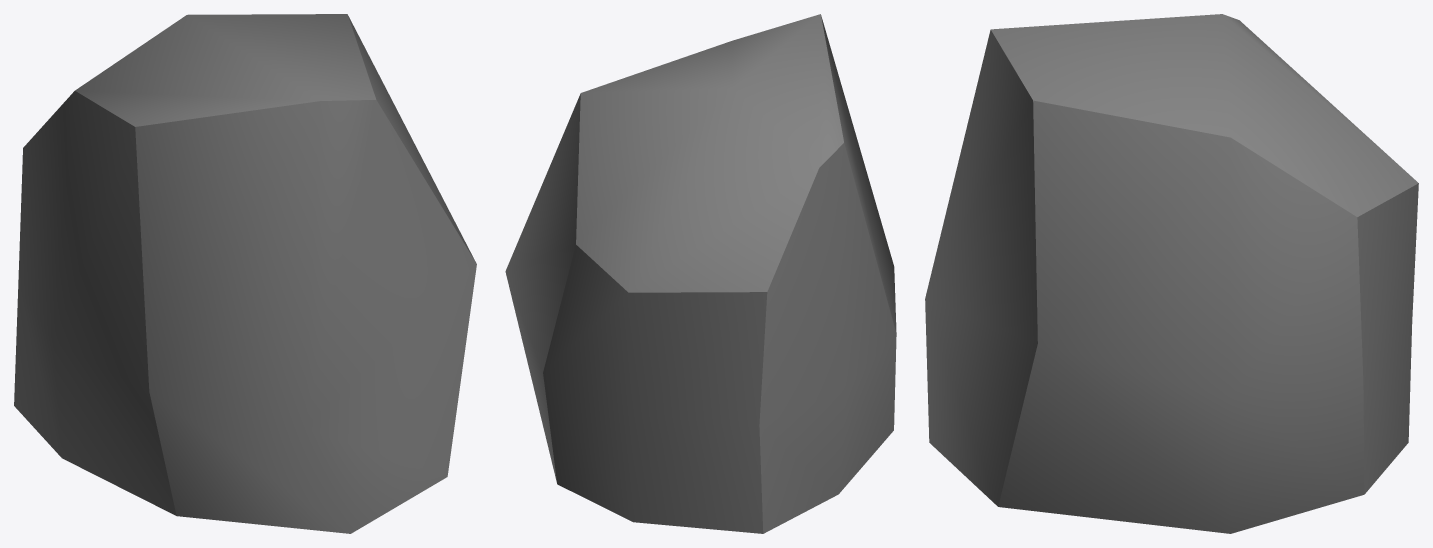
Rendered from JaggedRock3.FBX.
3 renders of one model, left to right at view 1: azimuth 30°, elevation 25°; view 2: azimuth 150°, elevation 25°; view 3: azimuth 270°, elevation 25°, orthographic. The views are drawn at different scales.
Parts seen in each view (by area): view 1: Box001; view 2: Box001; view 3: Box001.
Boxes of the visible parts, x1,y1,x2,y2 form: Box001: (14,14,476,533); Box001: (505,14,896,533); Box001: (925,14,1418,533).
Bounding box in the file's own units: 1.06 × 1.12 × 1.19.
Materials: 1 (1 with a texture image).
